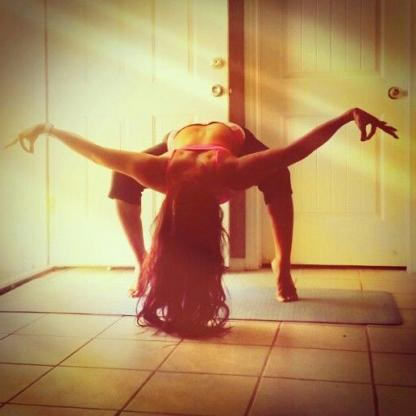godness: (0, 99, 402, 346)
